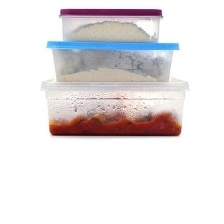plastic_box: (37, 70, 194, 141), (42, 36, 184, 88), (54, 2, 169, 47)
